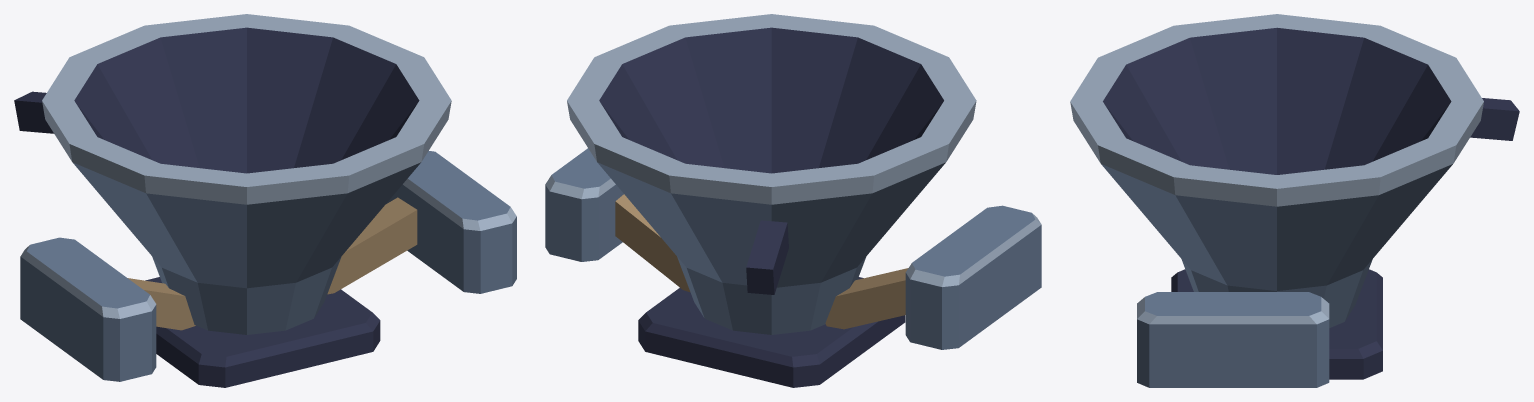
File: discarded_engine_bell.glb
The picture shows the model from 3 angles, left to right: view 1: azimuth 30°, elevation 25°; view 2: azimuth 150°, elevation 25°; view 3: azimuth 270°, elevation 25°; orthographic projection.
Visible parts, largest first — view 1: discarded_engine_bell; view 2: discarded_engine_bell; view 3: discarded_engine_bell.
Part boxes in pixels (x1,y1,x2,y2): discarded_engine_bell: [14, 14, 516, 387]; discarded_engine_bell: [545, 14, 1041, 387]; discarded_engine_bell: [1070, 14, 1519, 387].
Size of the model in its own units: 2.96 by 1.58 by 2.76.
